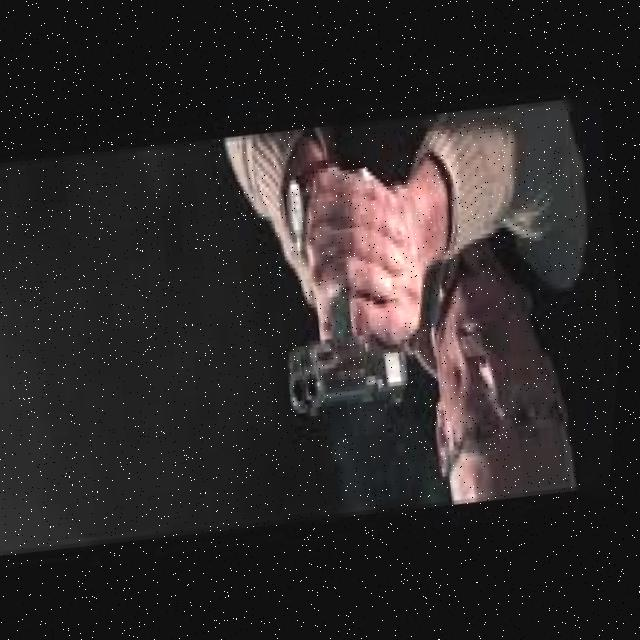pistol: (276, 269, 425, 429)
